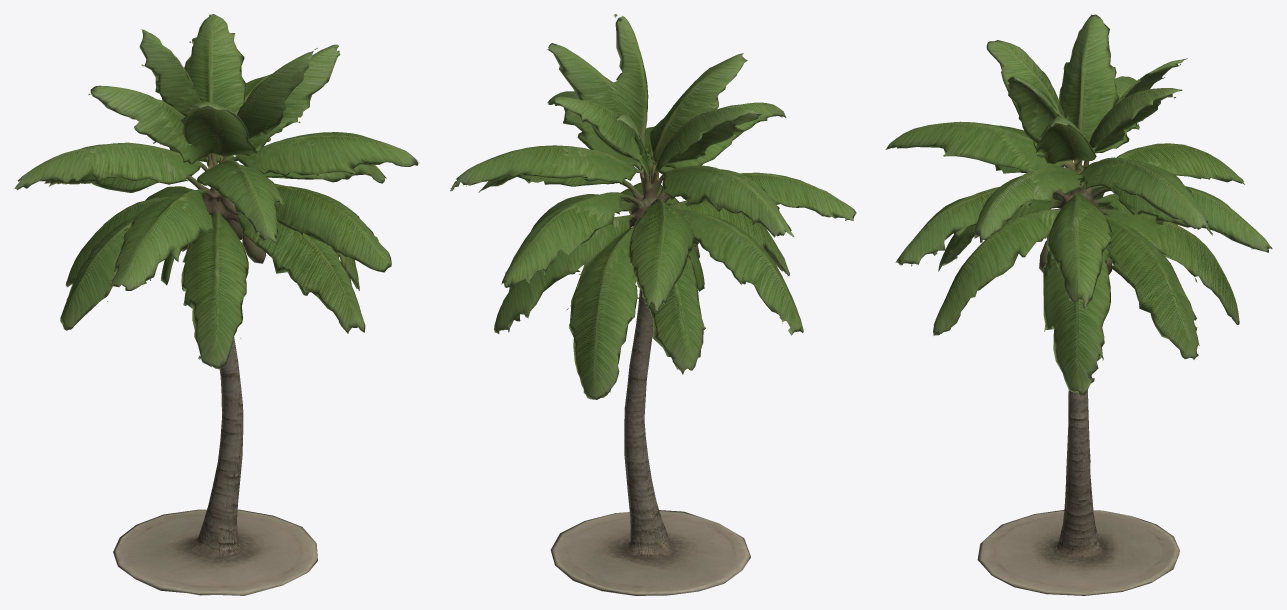
Rendered from cocotier.glb.
3 renders of one model, left to right at view 1: azimuth 30°, elevation 25°; view 2: azimuth 150°, elevation 25°; view 3: azimuth 270°, elevation 25°, orthographic. The views are drawn at different scales.
Parts seen in each view (by area): view 1: tripo_node_e94568a3-8ef1-403b-9874-8f480ba463e0; view 2: tripo_node_e94568a3-8ef1-403b-9874-8f480ba463e0; view 3: tripo_node_e94568a3-8ef1-403b-9874-8f480ba463e0.
Boxes of the visible parts, left/top/right/bottom form: tripo_node_e94568a3-8ef1-403b-9874-8f480ba463e0: left=14, top=14, right=419, bottom=595; tripo_node_e94568a3-8ef1-403b-9874-8f480ba463e0: left=450, top=14, right=856, bottom=595; tripo_node_e94568a3-8ef1-403b-9874-8f480ba463e0: left=885, top=14, right=1272, bottom=595.
Bounding box in the file's own units: 0.6926 × 0.9779 × 0.6732.
Materials: 1 (1 with a texture image).
